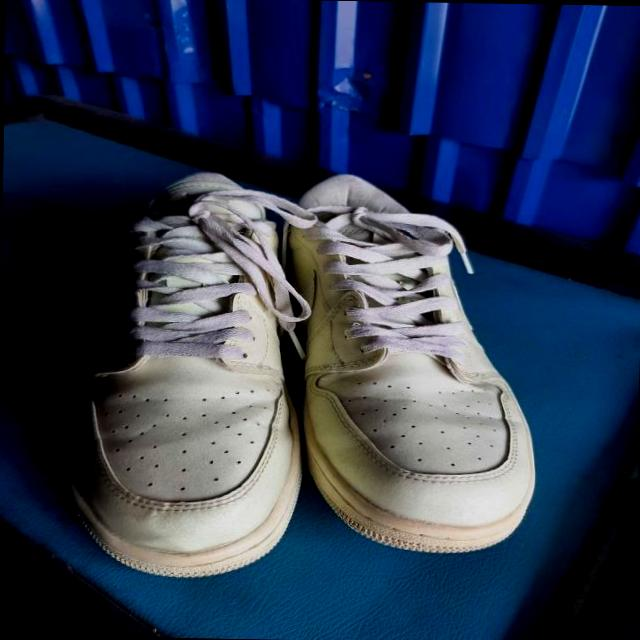nike_fake_jordan: (286, 164, 546, 556), (62, 167, 300, 580)
